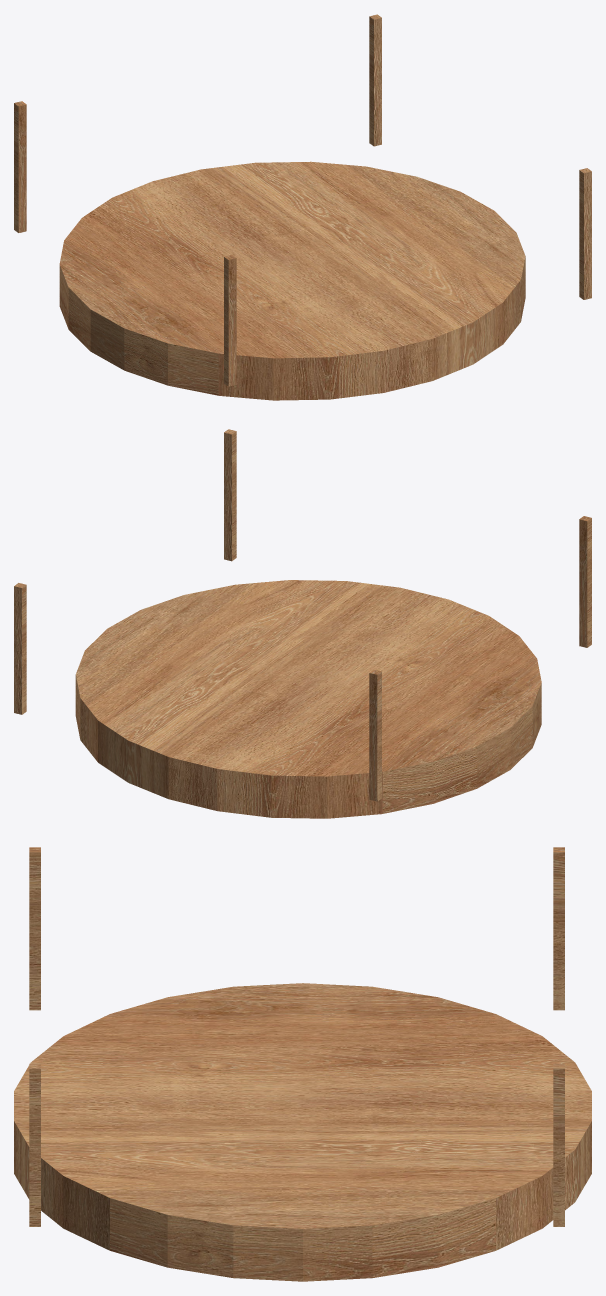
The model's file is 28654_gpt-only.glb.
3 renders of one model, top to bottom at view 1: azimuth 30°, elevation 25°; view 2: azimuth 150°, elevation 25°; view 3: azimuth 270°, elevation 25°, orthographic. The views are drawn at different scales.
Parts seen in each view (by area): view 1: ParentEmpty; view 2: ParentEmpty; view 3: ParentEmpty.
Boxes of the visible parts, left/top/right/bottom form: ParentEmpty: left=14, top=14, right=591, bottom=400; ParentEmpty: left=14, top=429, right=591, bottom=818; ParentEmpty: left=14, top=847, right=591, bottom=1281.
Bounding box in the file's own units: 1 × 0.3902 × 0.9927.
1 material, 1 textured.
